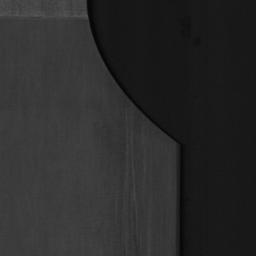Crescent gap: (87, 0, 176, 142)
